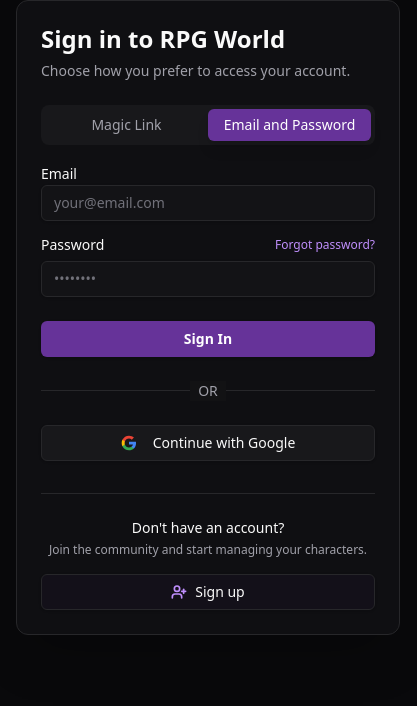
Test: LoginForm › não mostra mensagens de erro desconhecidas, só a genérica
The image size is (417, 706).
Step 1. Type "hero@example.com" into the field labelled "Email" → (208, 203), box [41, 185, 375, 221]
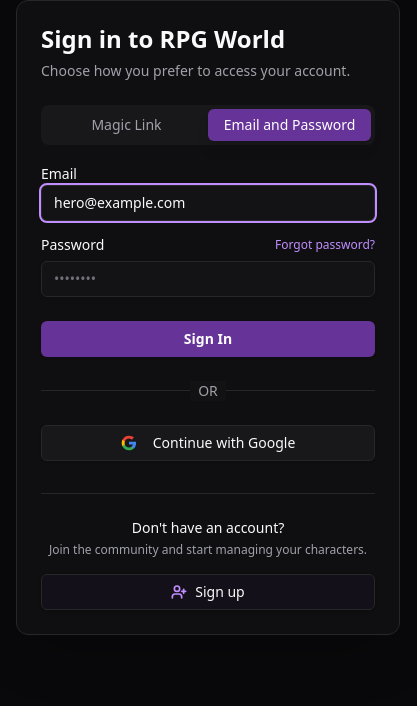
Step 2. Type "secret" into the password field labelled "Password" → (208, 279), box [41, 261, 375, 297]
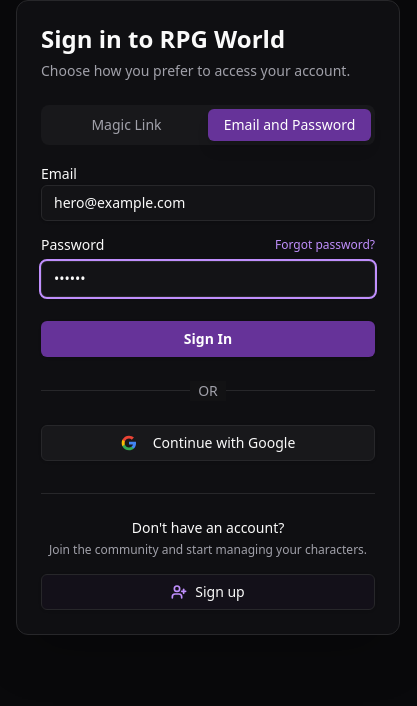
Step 3. Click the button "Sign In" → (208, 339), box [41, 321, 375, 357]
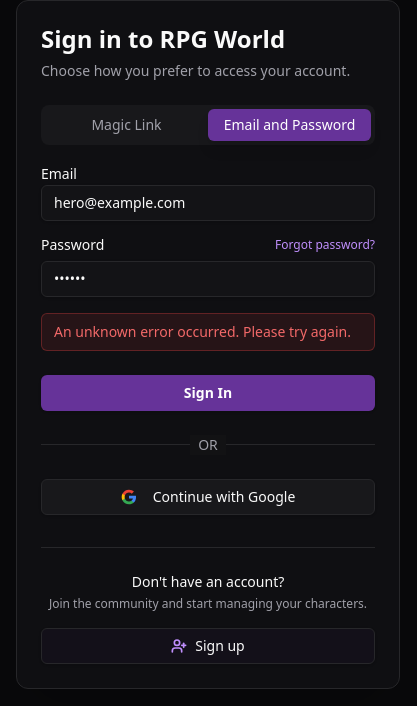
Result: the text "An unknown error occurred. Please try again." is shown at [41, 313, 375, 351]
